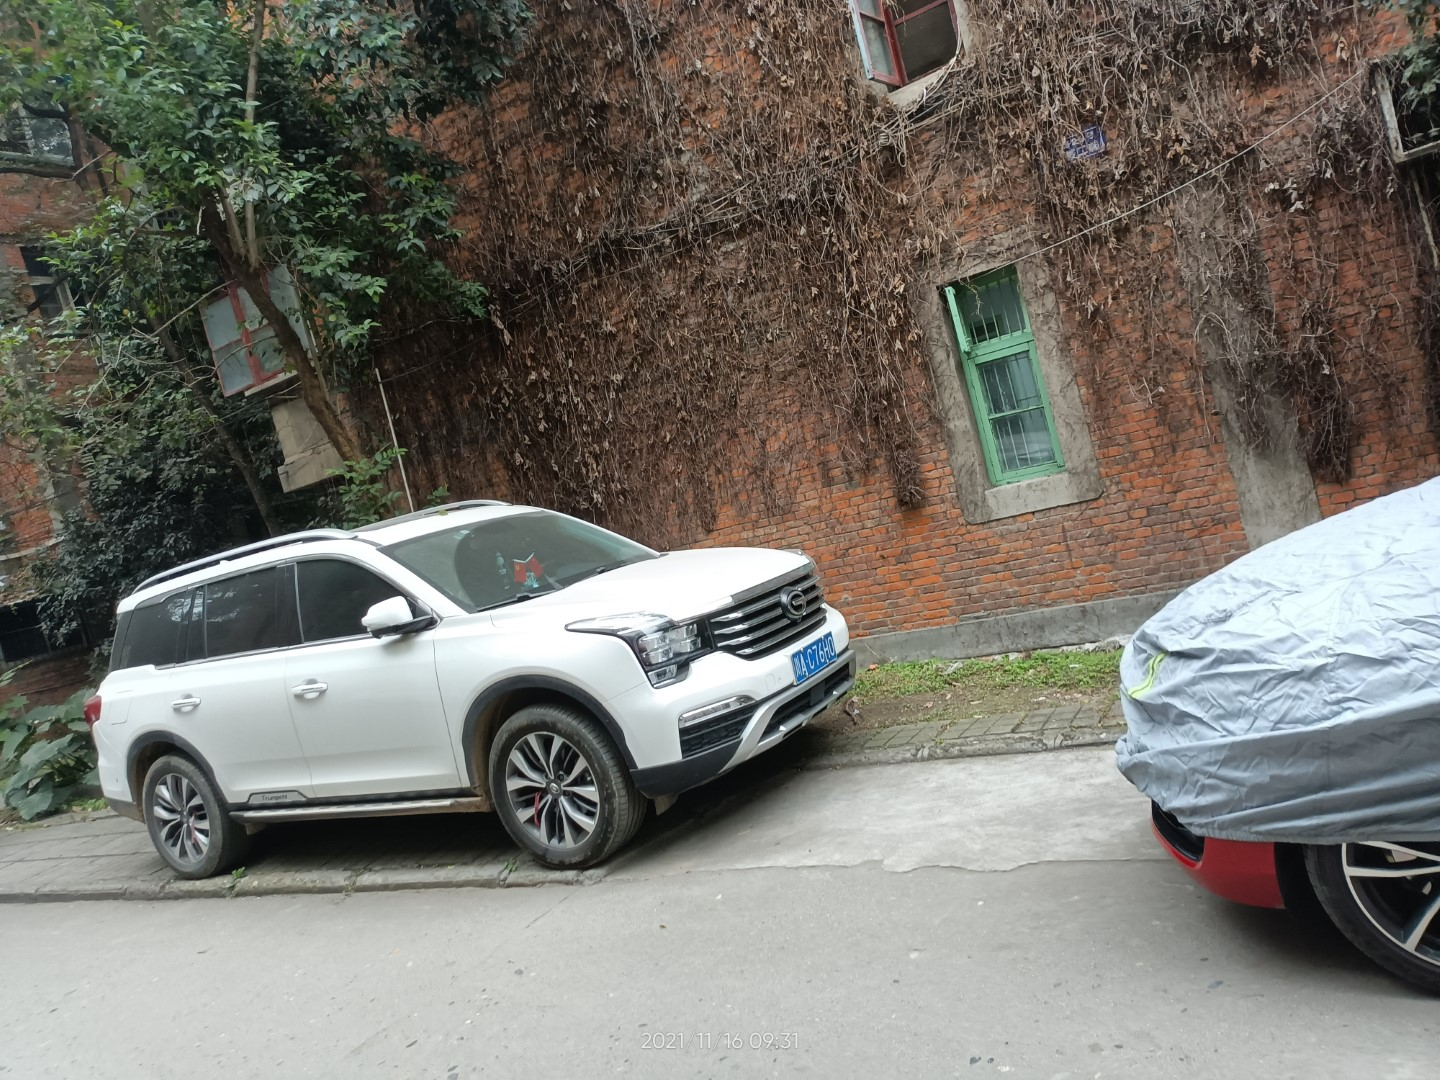plate: (790, 630, 837, 685)
